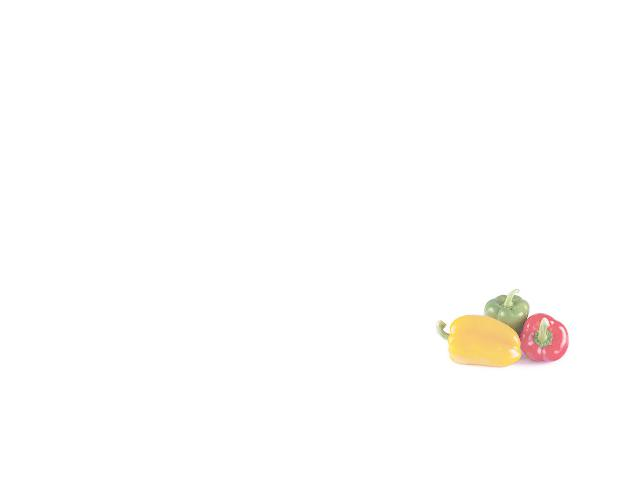bell_pepper: (479, 288, 533, 335)
